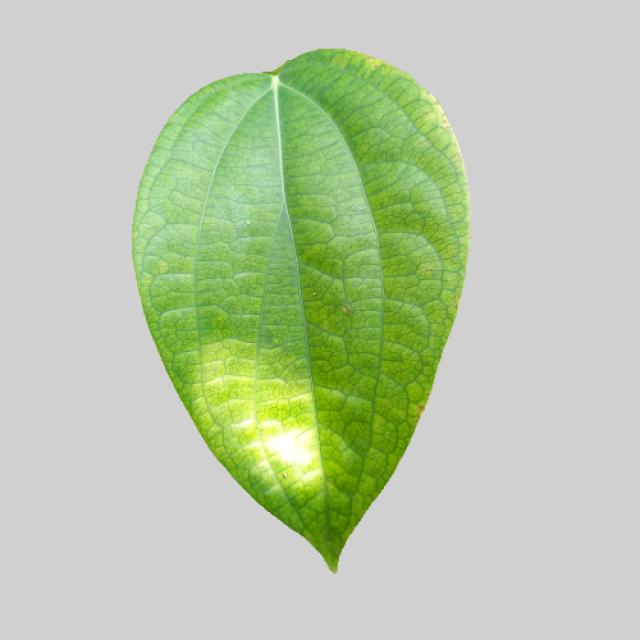healthy: (123, 44, 484, 584)
